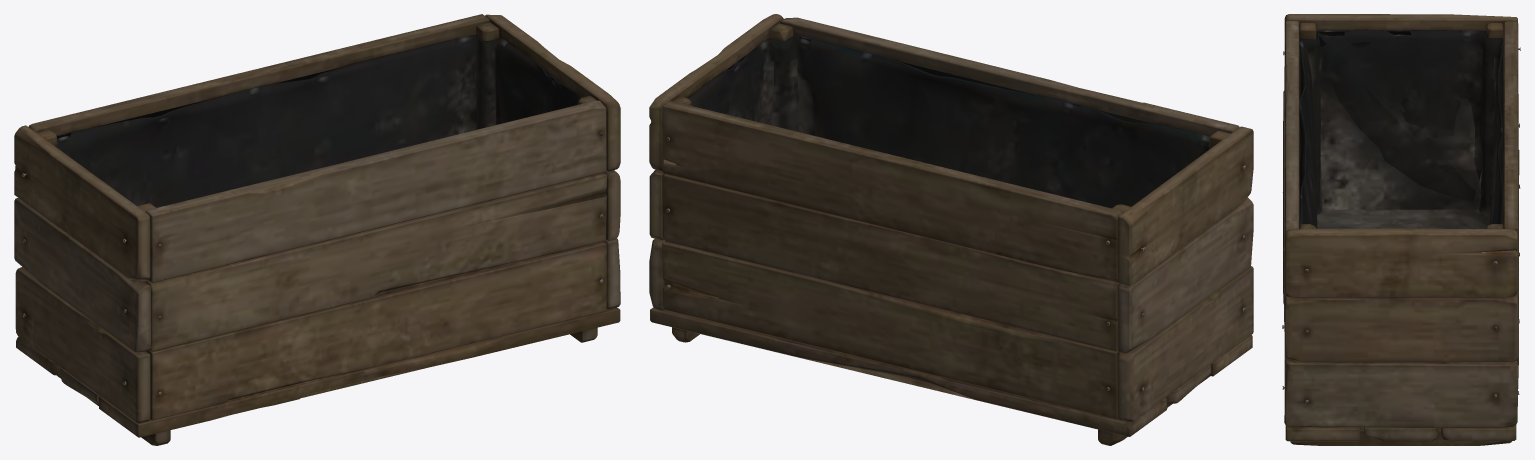
The model's file is planter_box_01.glb.
3 renders of one model, left to right at view 1: azimuth 30°, elevation 25°; view 2: azimuth 150°, elevation 25°; view 3: azimuth 270°, elevation 25°, orthographic. The views are drawn at different scales.
Parts seen in each view (by area): view 1: planter_box_01, planter_box_01_lo; view 2: planter_box_01, planter_box_01_lo; view 3: planter_box_01, planter_box_01_lo.
Part boxes in pixels (box(x1,y1,x2,y2)): planter_box_01: box(14, 14, 620, 445); planter_box_01_lo: box(32, 14, 607, 423); planter_box_01: box(649, 14, 1253, 445); planter_box_01_lo: box(651, 22, 1214, 422); planter_box_01: box(1282, 14, 1520, 445); planter_box_01_lo: box(1283, 22, 1516, 312).
Size of the model in its own units: 0.9126 by 0.4249 by 0.4137.
1 material, 1 textured.
